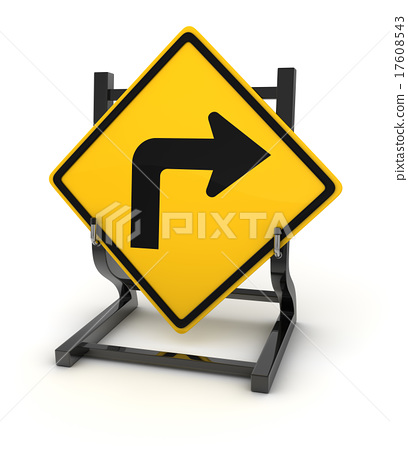right: (44, 24, 345, 335)
